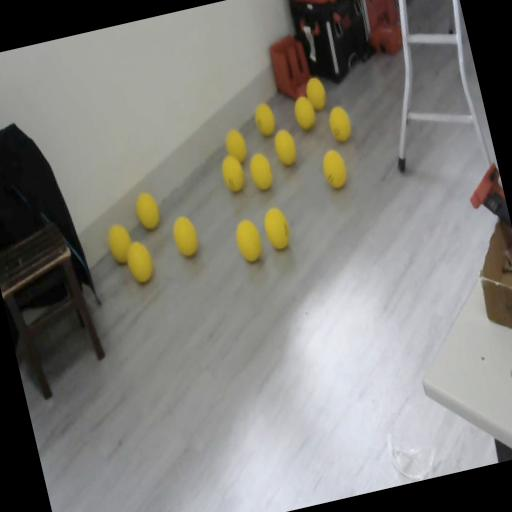FUEL: (230, 214, 266, 265), (260, 204, 294, 252), (169, 212, 203, 260), (123, 238, 157, 286), (318, 146, 350, 192), (132, 188, 164, 233), (246, 149, 276, 193), (271, 126, 300, 168), (222, 126, 251, 166), (291, 92, 319, 132), (326, 104, 354, 144), (302, 74, 330, 112), (252, 101, 278, 138)
